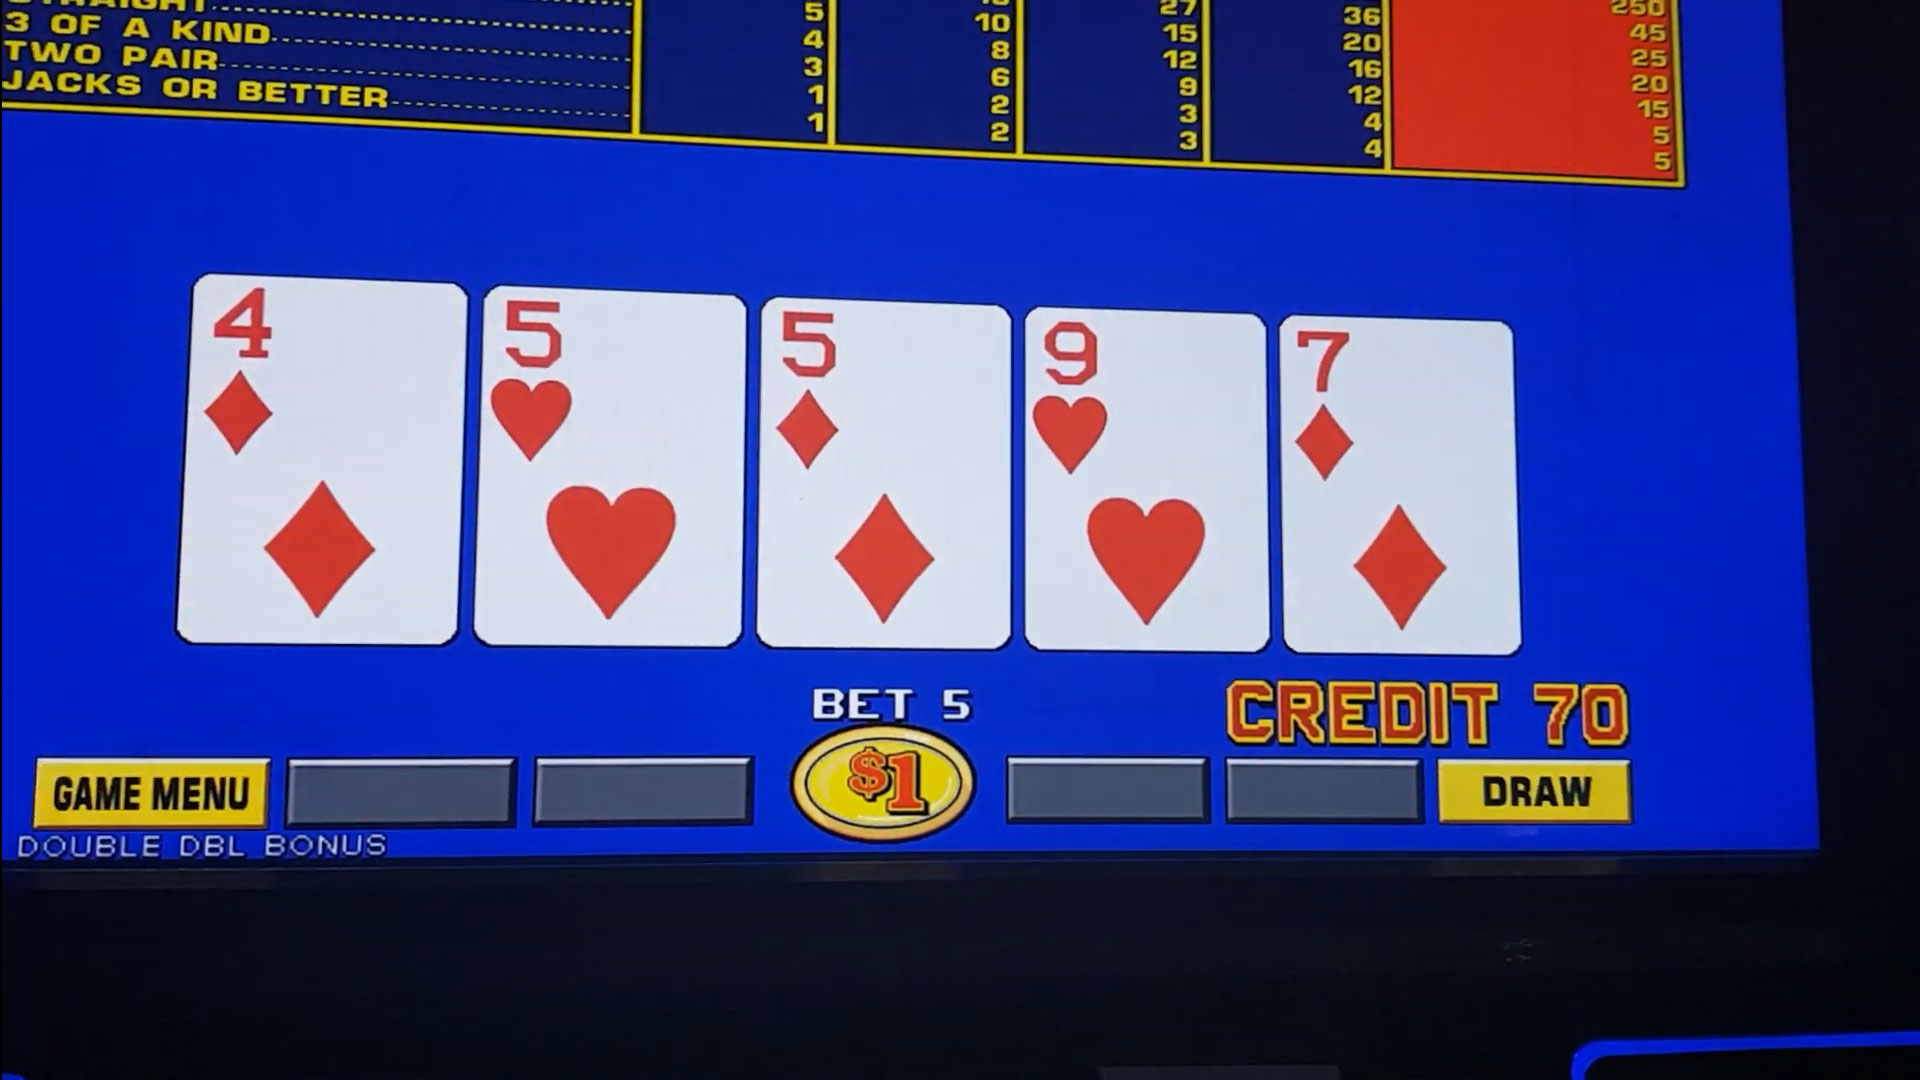D4: (200, 289, 458, 471)
D5: (767, 313, 1002, 485)
D7: (1283, 330, 1511, 491)
H5: (488, 298, 740, 485)
H9: (1029, 323, 1261, 495)
